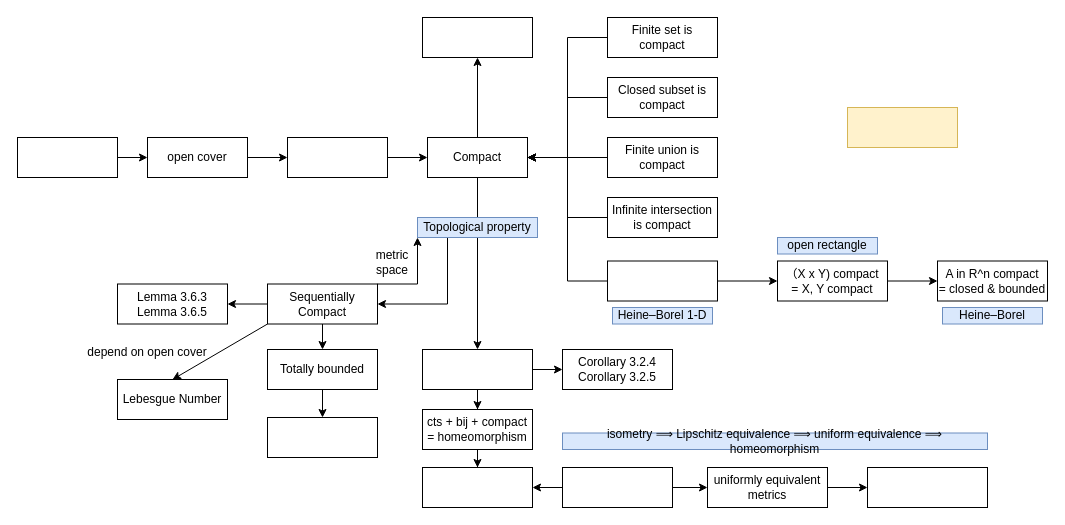
This 1065x525 diagram has some shape labels left out. The shapes that lost their labels are listed below. From the top down, each one's box as (x1, y1, x2, y2) in pixels, then its label:
(422, 16, 532, 58): Bounded & Closed
(846, 106, 958, 148): 3.4. Equivalence of norms on R^n
(16, 136, 118, 178): Cover
(286, 136, 388, 178): finite subcover
(606, 260, 718, 301): [a, b] in R is compact
(422, 348, 532, 390): compact + cts = compact
(266, 416, 378, 458): 𝜀 - net
(422, 466, 532, 508): cts + compact domain = u.c.
(562, 466, 672, 508): uniform continuous
(866, 466, 988, 508): uniformly equivalent metric spaces
